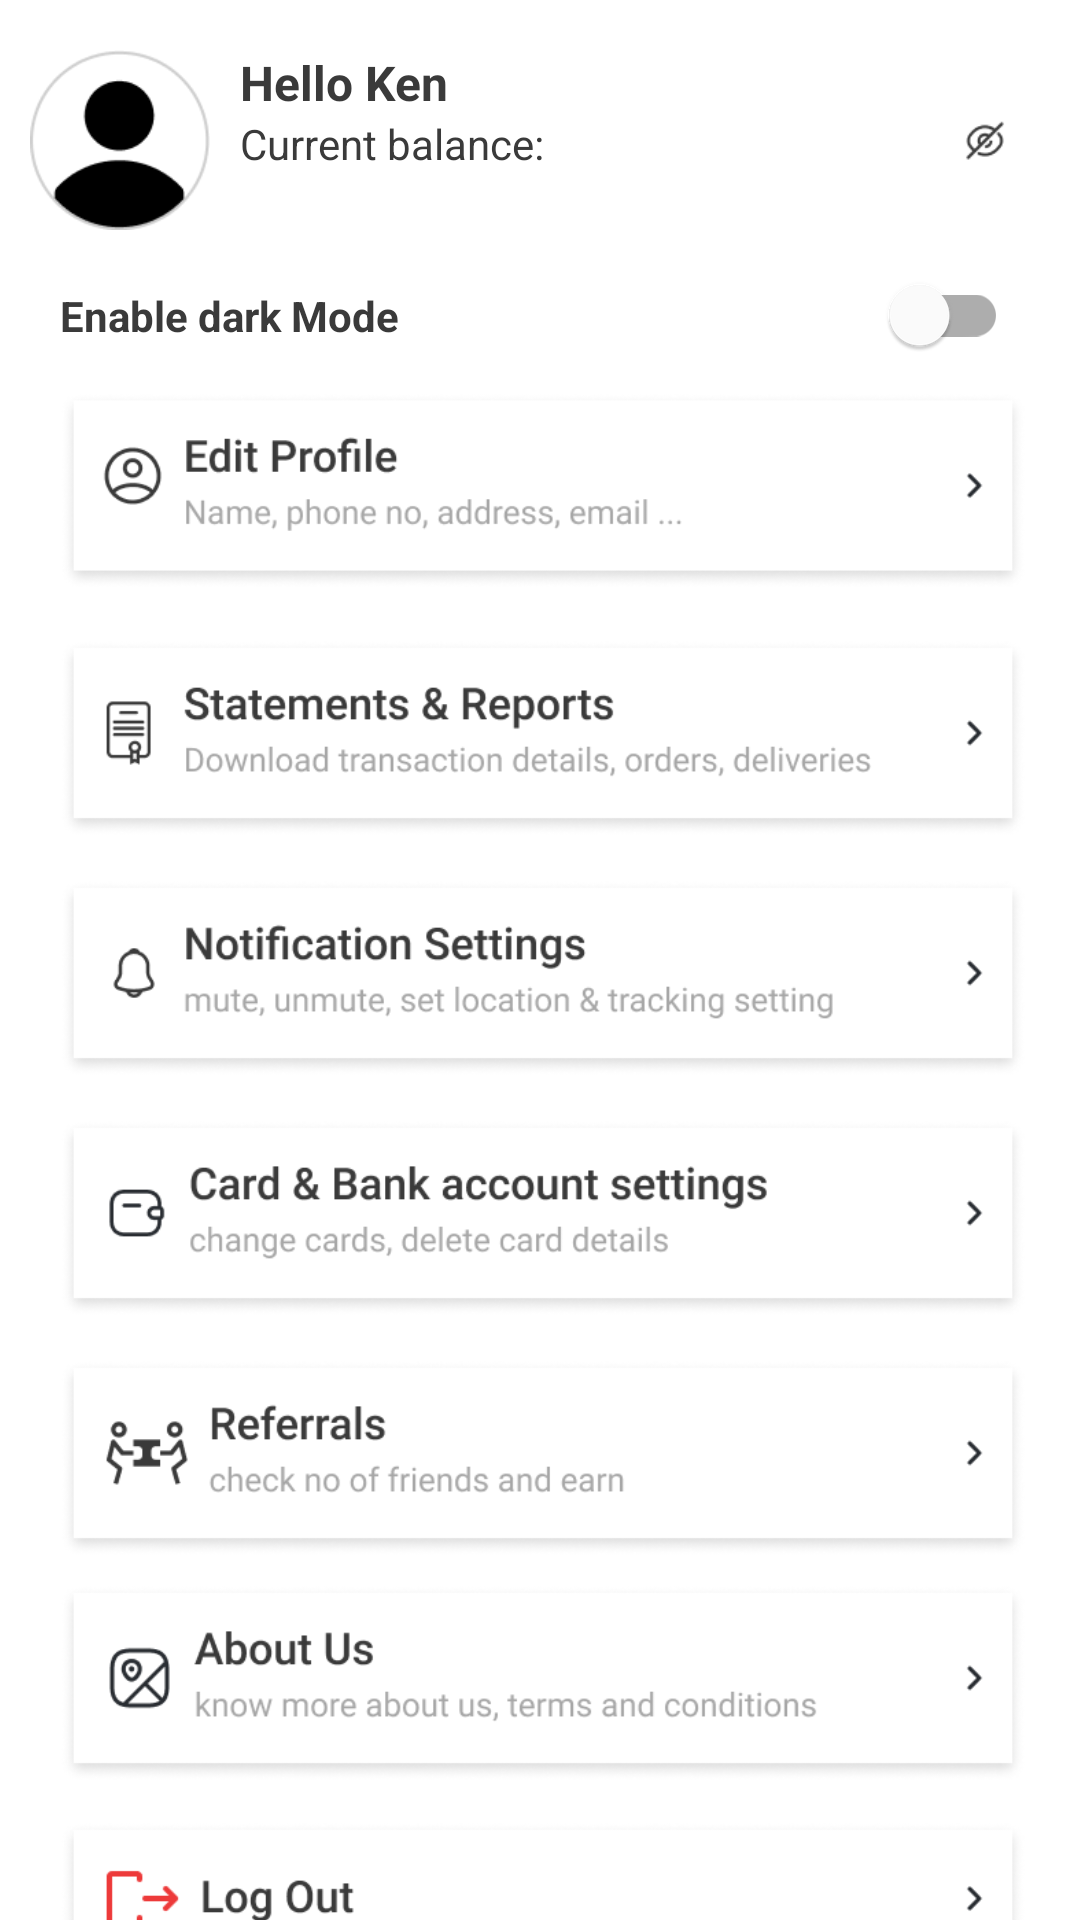

Named icons in this screenshot (1080px x 1920px) and their centers, point (x, y):
eyelish: point (985, 140)
